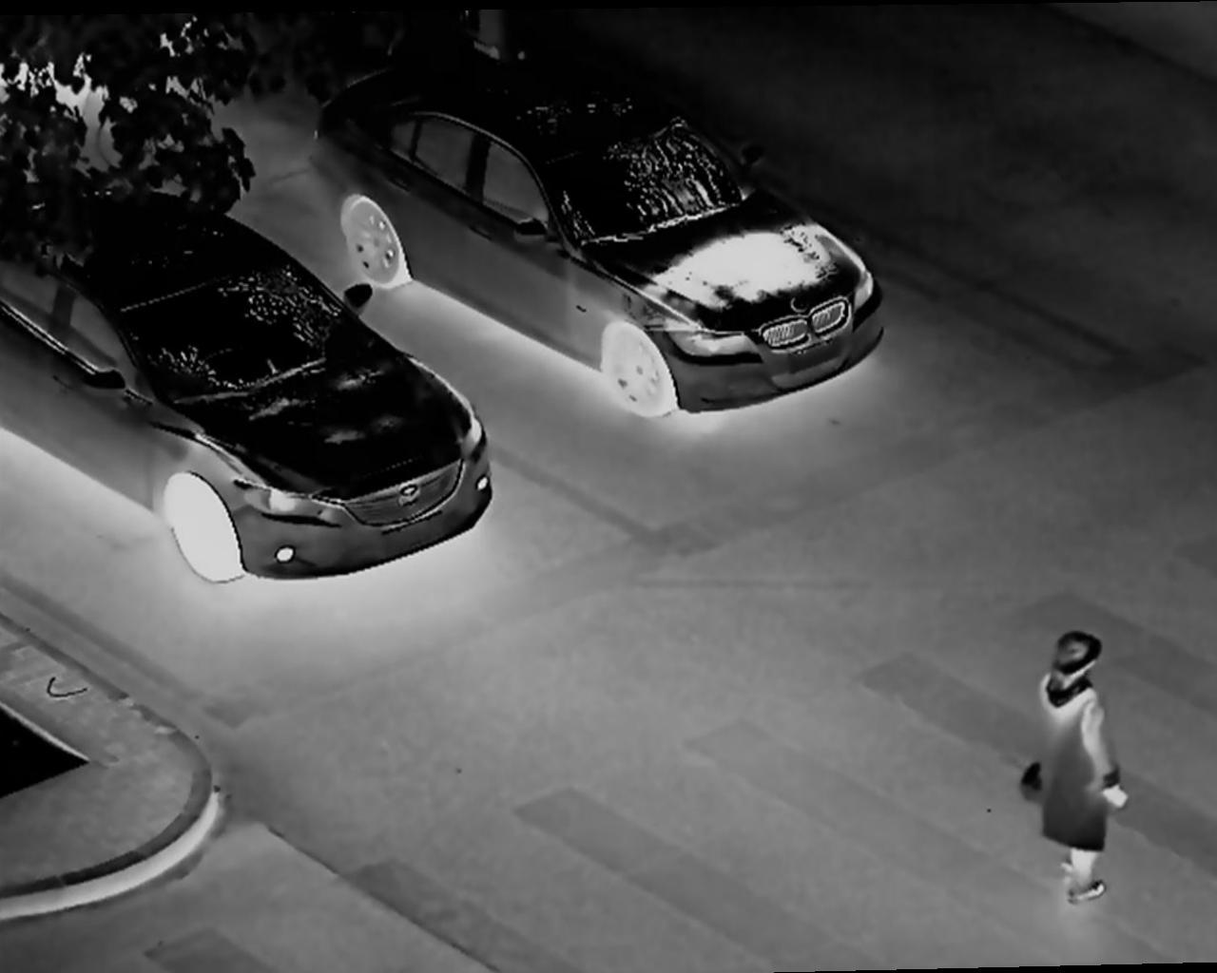person: (1020, 625, 1133, 921)
